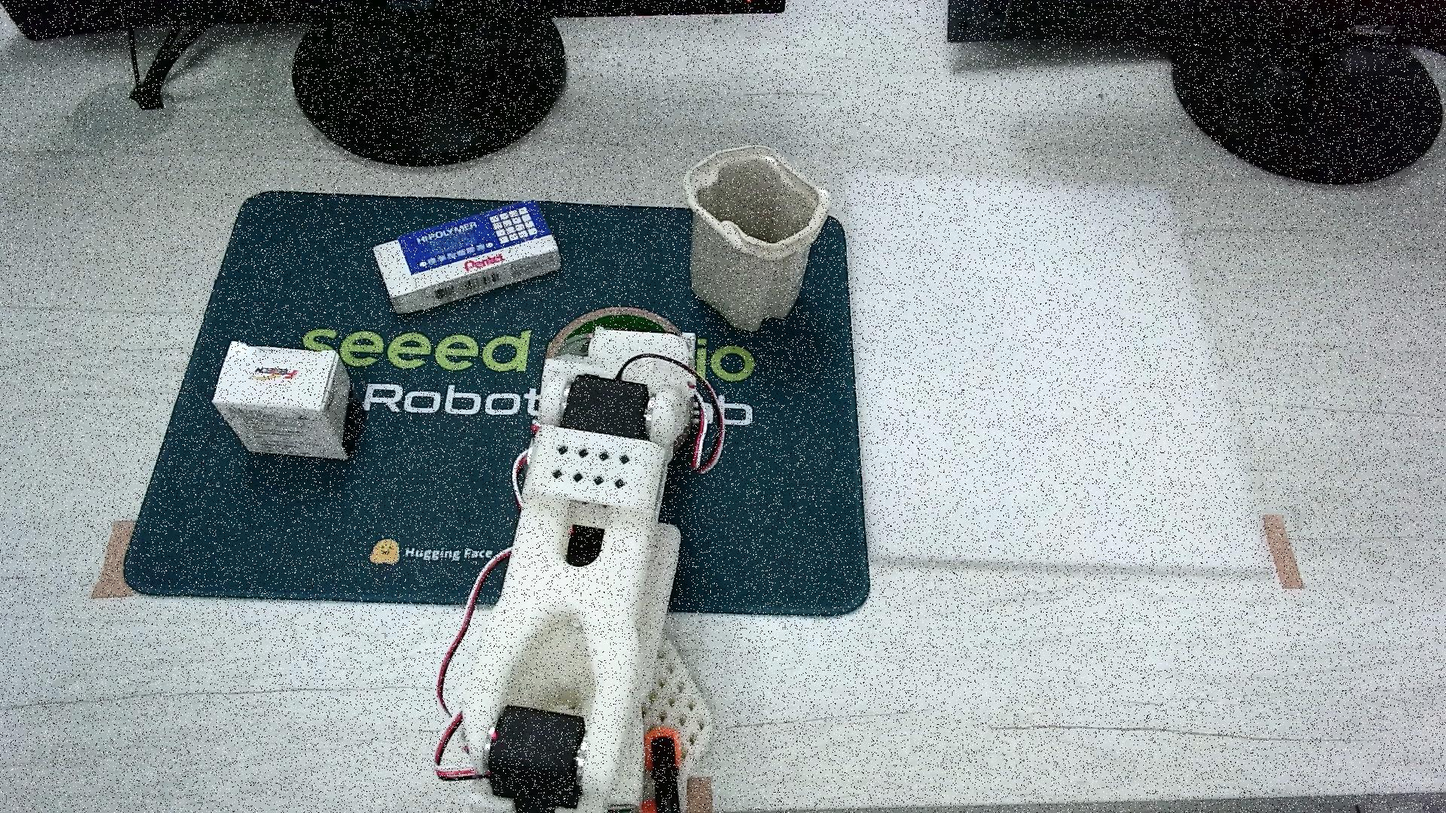eraser: (212, 341, 360, 458)
